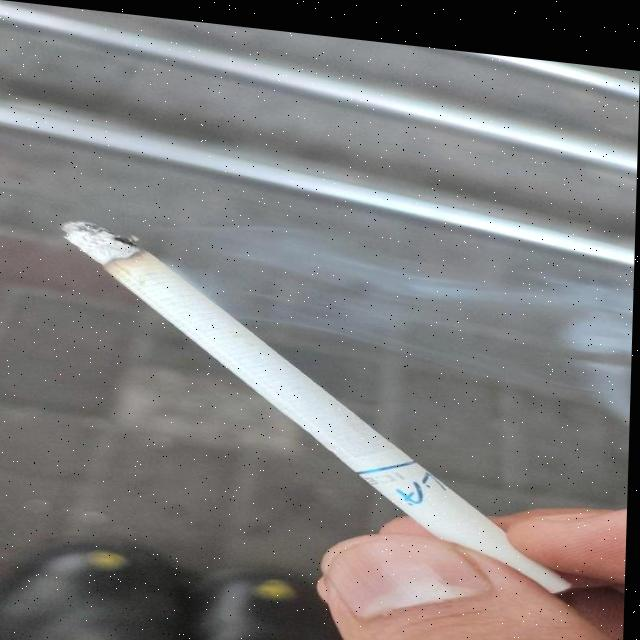cigarette: (54, 215, 583, 588)
